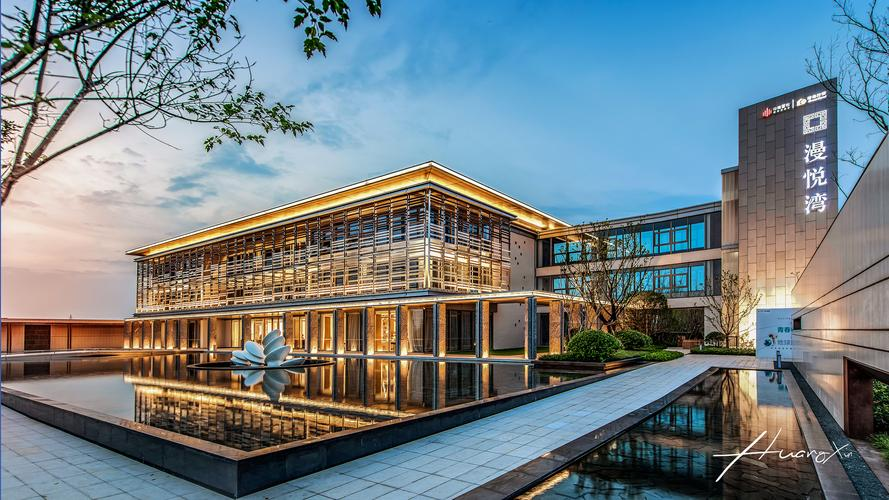buildings: (96, 156, 683, 358), (683, 99, 864, 353)
